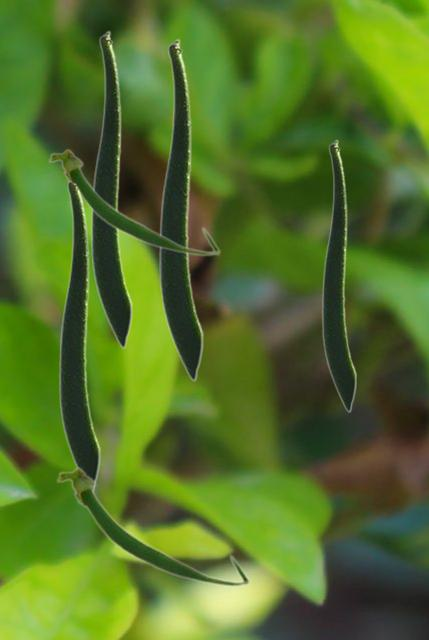french_bean: (55, 465, 250, 587), (47, 148, 220, 256), (158, 38, 203, 381), (90, 30, 132, 348), (58, 182, 100, 491), (321, 139, 356, 412)
